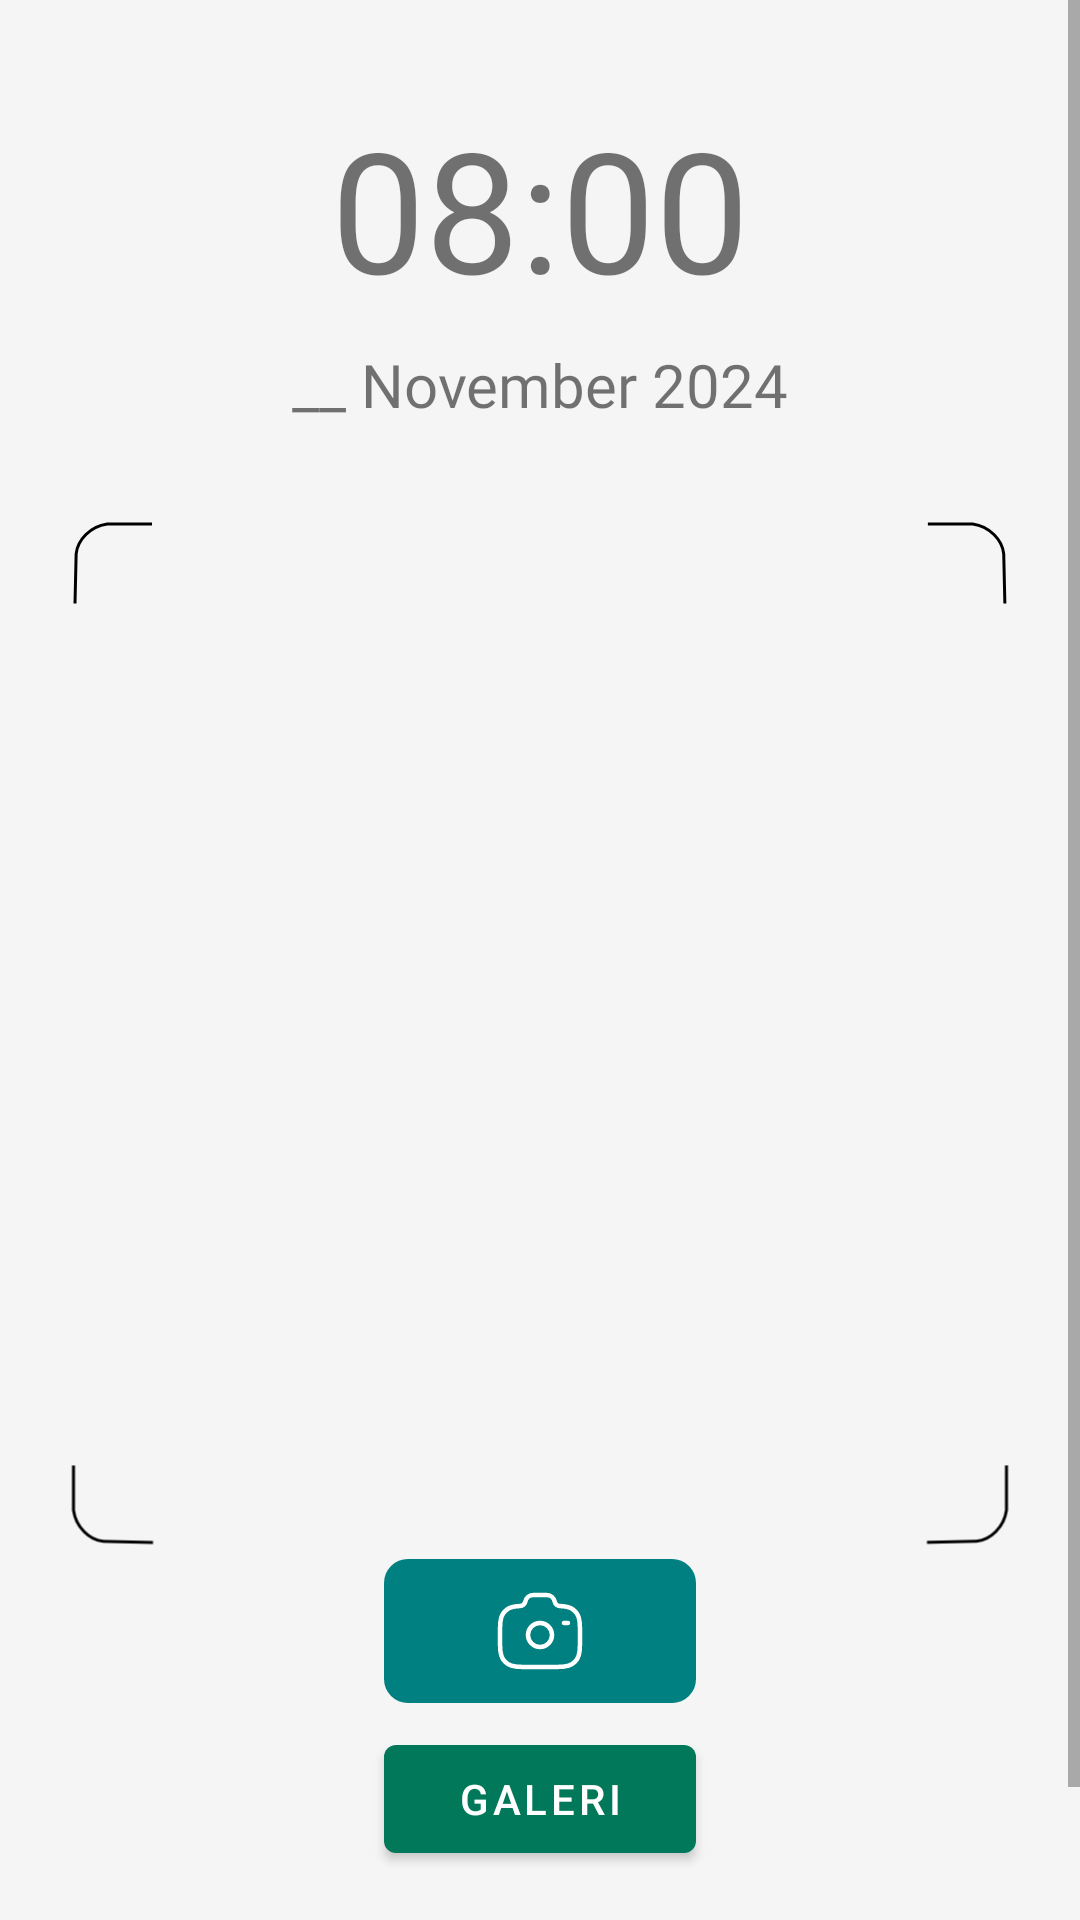

Icons on this 1080 × 1920 Android screen, each with its box as (x1, y1, x2, y2):
Go to Camera: (384, 1559, 696, 1703)
